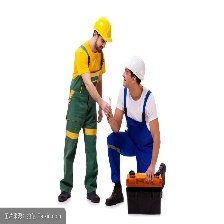helmet: (124, 53, 145, 85), (92, 18, 113, 42)
no-vest: (121, 88, 155, 150)
person: (61, 13, 113, 205), (109, 54, 160, 207)
